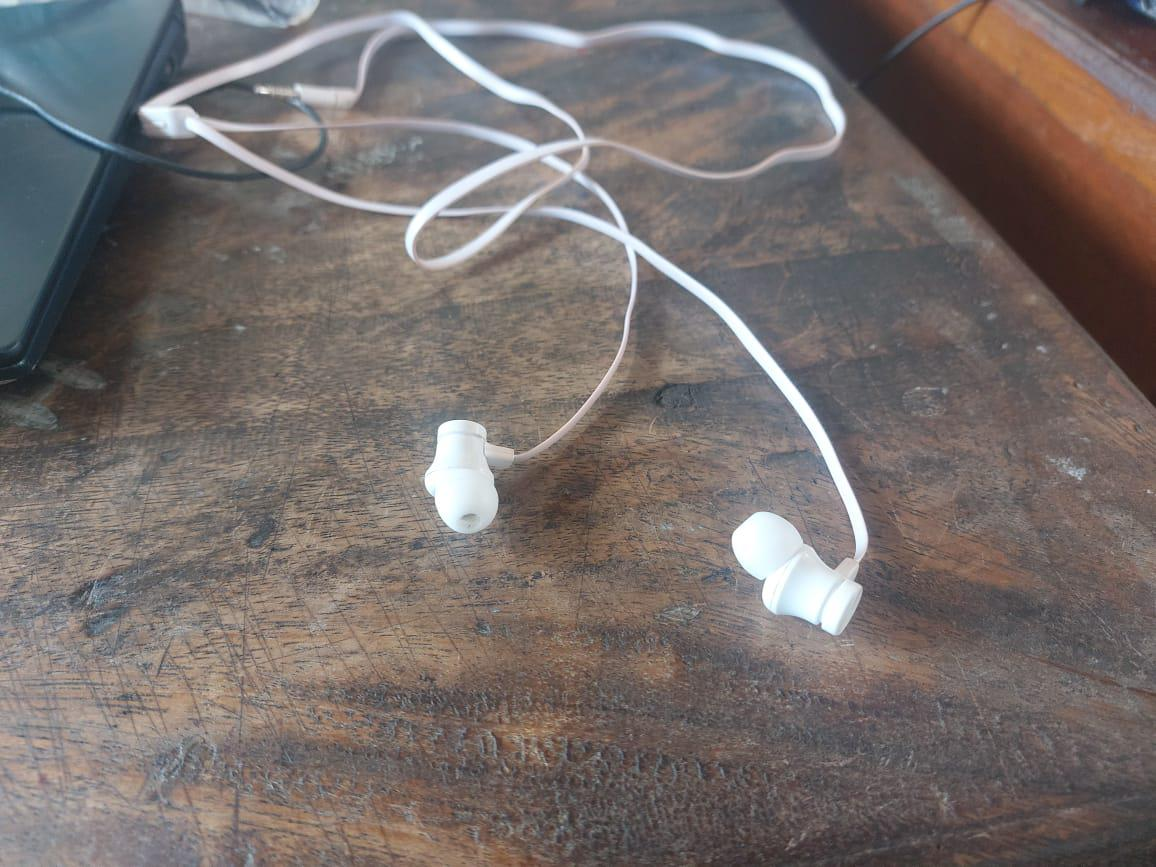Earphone: (728, 501, 889, 646), (408, 405, 541, 554)
